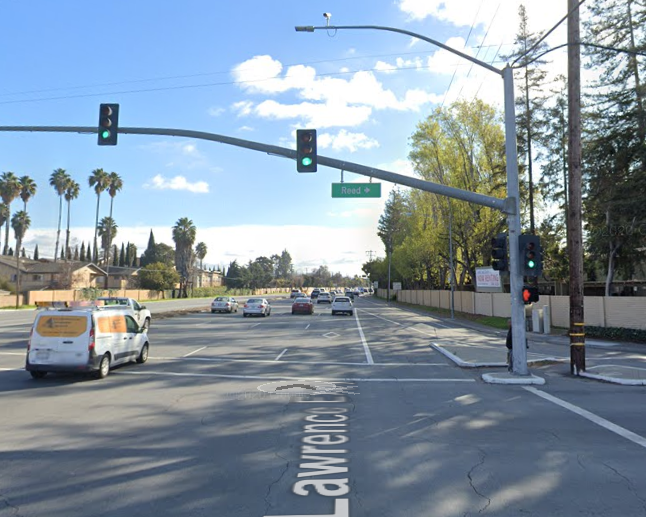green_light: (99, 104, 119, 144), (297, 129, 316, 169), (520, 236, 539, 272)
